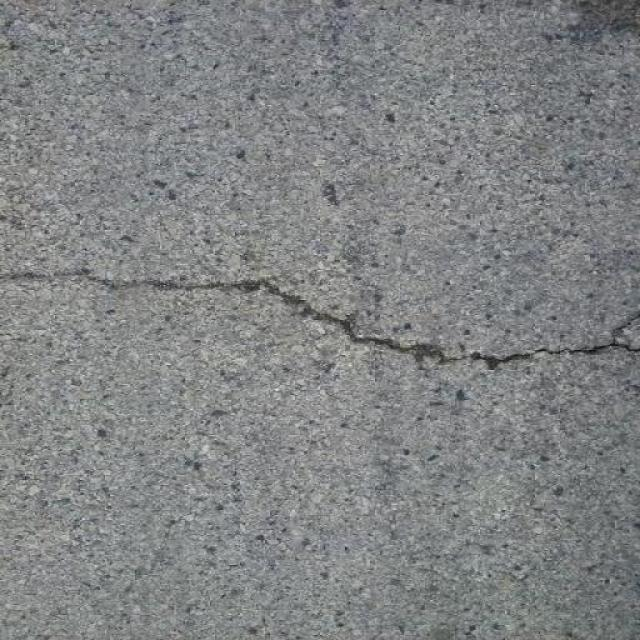Crack: (2, 263, 640, 373)
